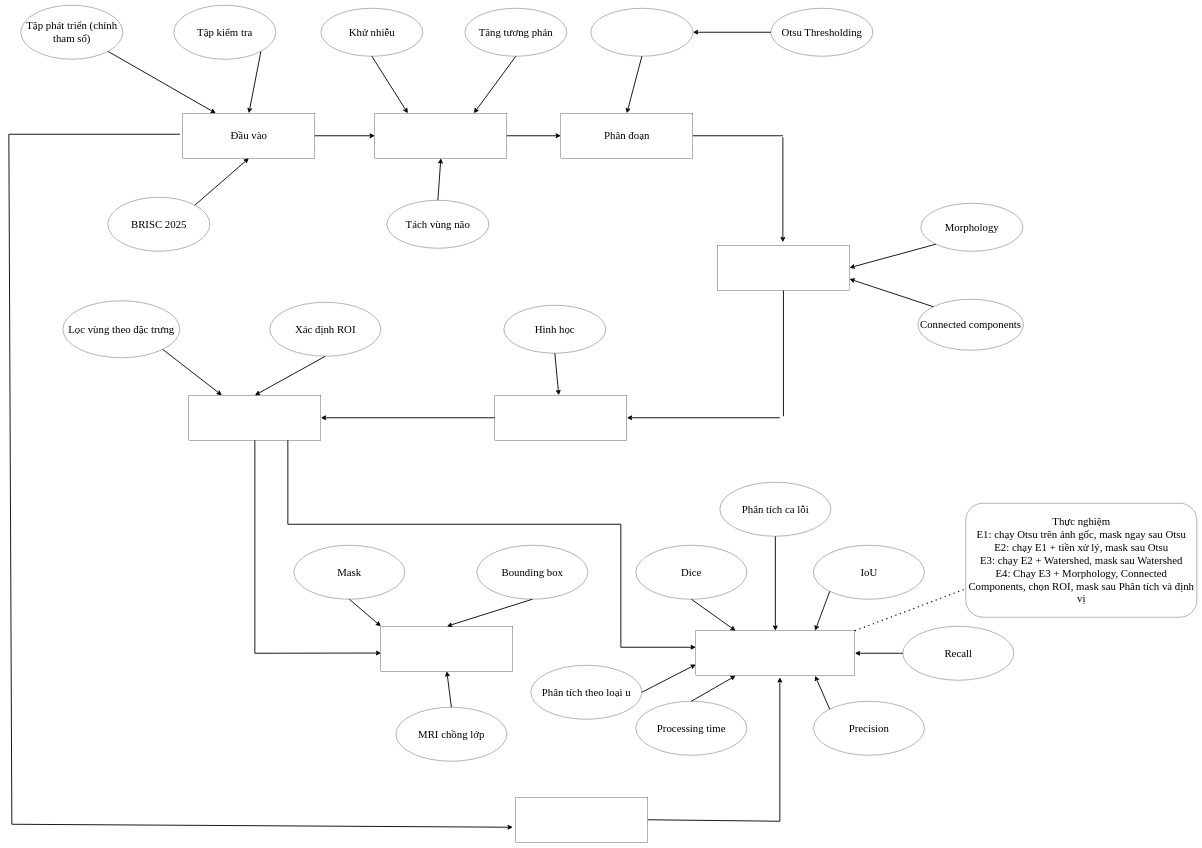
Image size: 1202x848. Some labels were removed from this diagram. Here are the shapes that lost their labels. From the top down, the centre of each, then its label:
At point (642, 32): "Watershed".
At point (441, 135): "Tiền xử lý ảnh".
At point (783, 267): "Hậu xử lý".
At point (255, 417): "Phân tích và định vị".
At point (561, 417): "Trích xuất đặc trưng".
At point (447, 648): "Hiển thị kết quả".
At point (775, 653): "Đánh giá".
At point (582, 819): "Ground truth mask".
